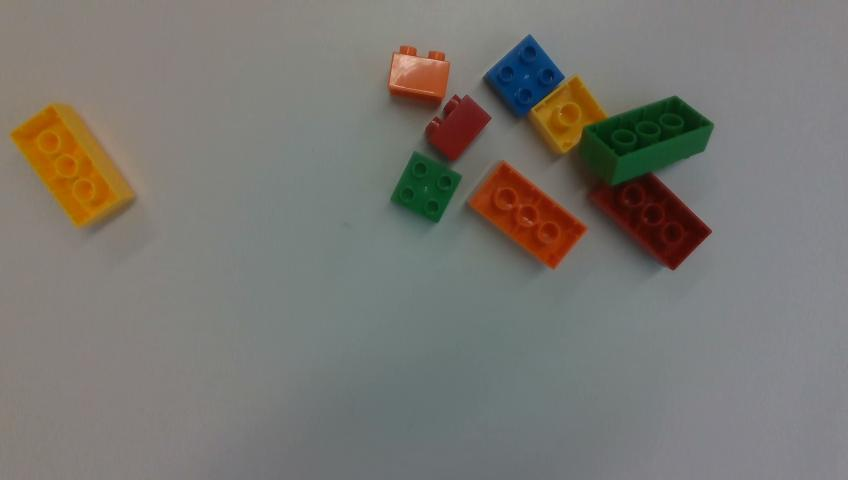2x2_blue: (485, 35, 564, 117)
2x2_green: (391, 152, 461, 222)
2x2_orange: (388, 45, 450, 103)
2x2_red: (425, 95, 491, 160)
2x2_yellow: (528, 75, 606, 154)
4x2_green: (580, 96, 713, 185)
4x2_orange: (469, 161, 587, 268)
4x2_red: (588, 173, 711, 269)
4x2_yellow: (10, 104, 133, 226)
